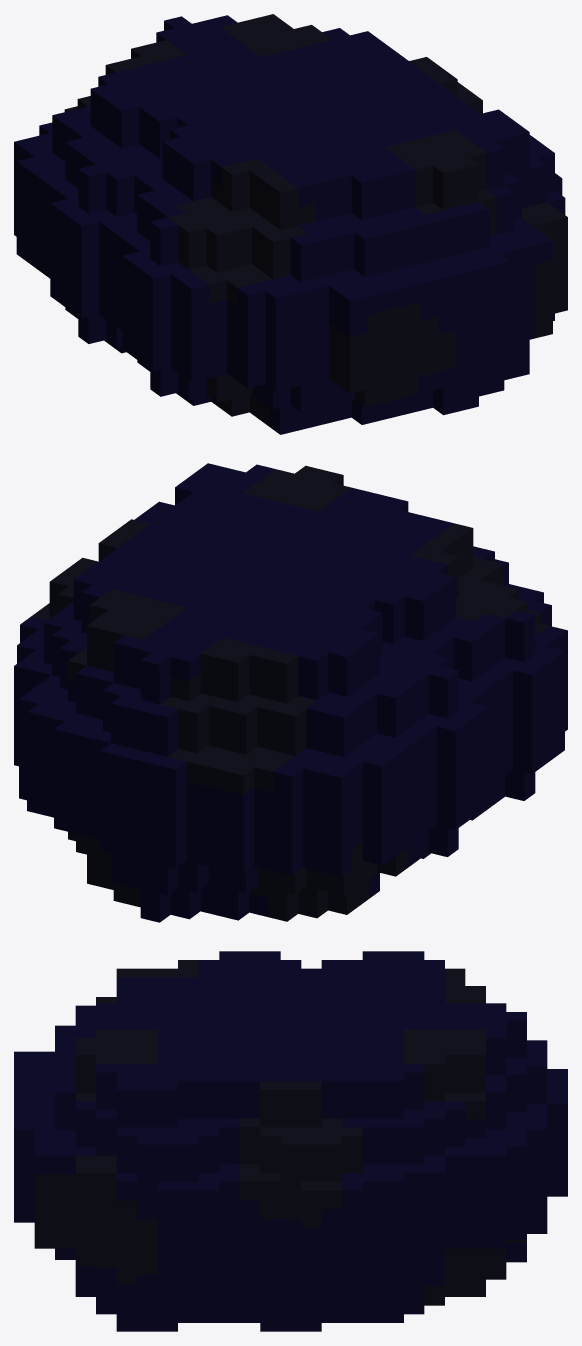
Rendered from Menu-0.obj.
3 views of the same model, one above another, from view 1: azimuth 30°, elevation 25°; view 2: azimuth 150°, elevation 25°; view 3: azimuth 270°, elevation 25° (orthographic). The views are drawn at different scales.
Size of the model in its own units: 2.3 by 1.3 by 2.7.
1 material, 1 textured.
